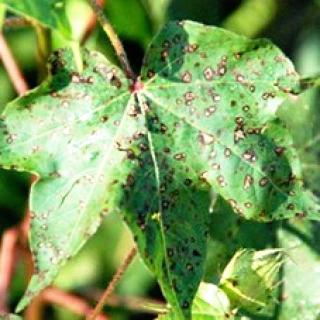blight: (9, 50, 309, 238)
